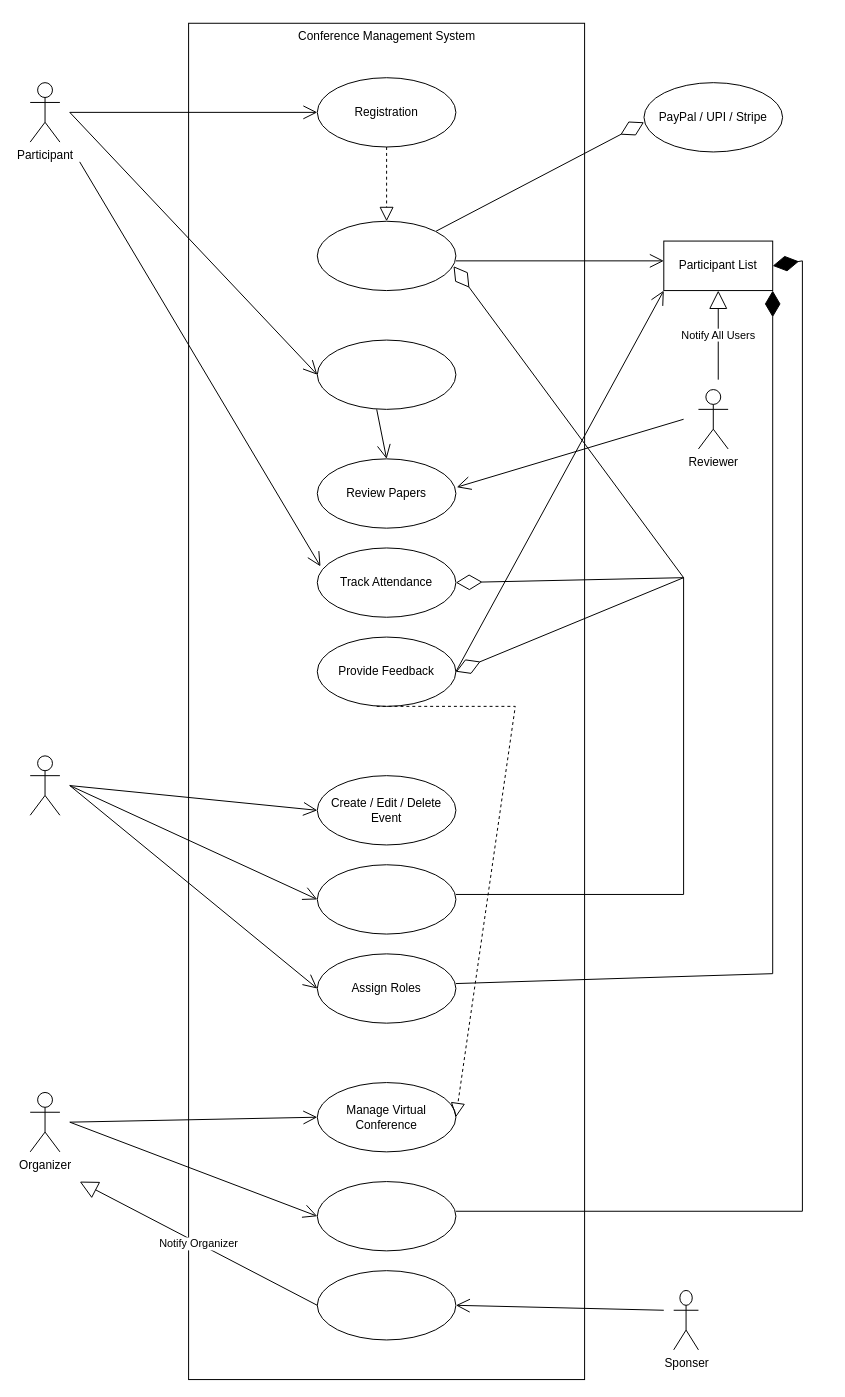
The diagram is 845 pixels wide and 1397 high, and some of its shapes have lost their labels. Here are the shapes that lost their labels. From the top down, the box of each, then its label:
(316, 220, 456, 291): Payment Validation
(316, 339, 456, 409): Abstract Submission
(29, 755, 60, 815): Admin
(316, 864, 456, 934): Generate Reports
(316, 1181, 456, 1251): Allocate Resources
(316, 1270, 456, 1340): Manage Sponsors
